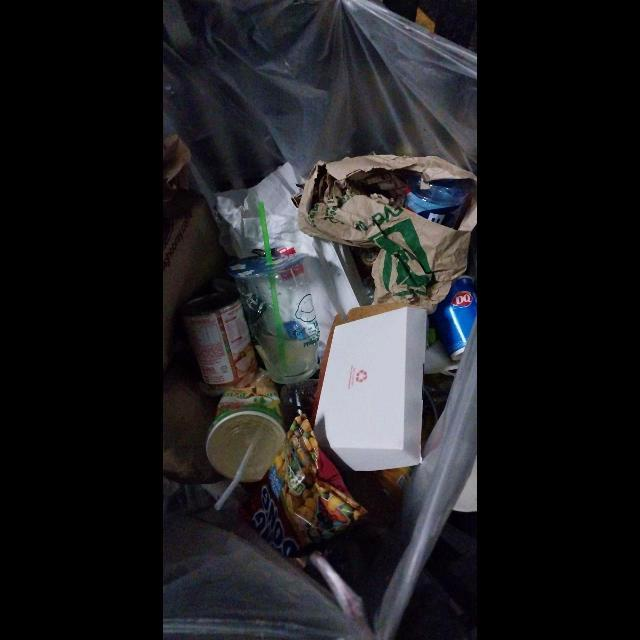aluminum: (181, 294, 257, 386)
cardboard: (313, 302, 429, 473)
food_wrapper: (252, 414, 367, 557)
